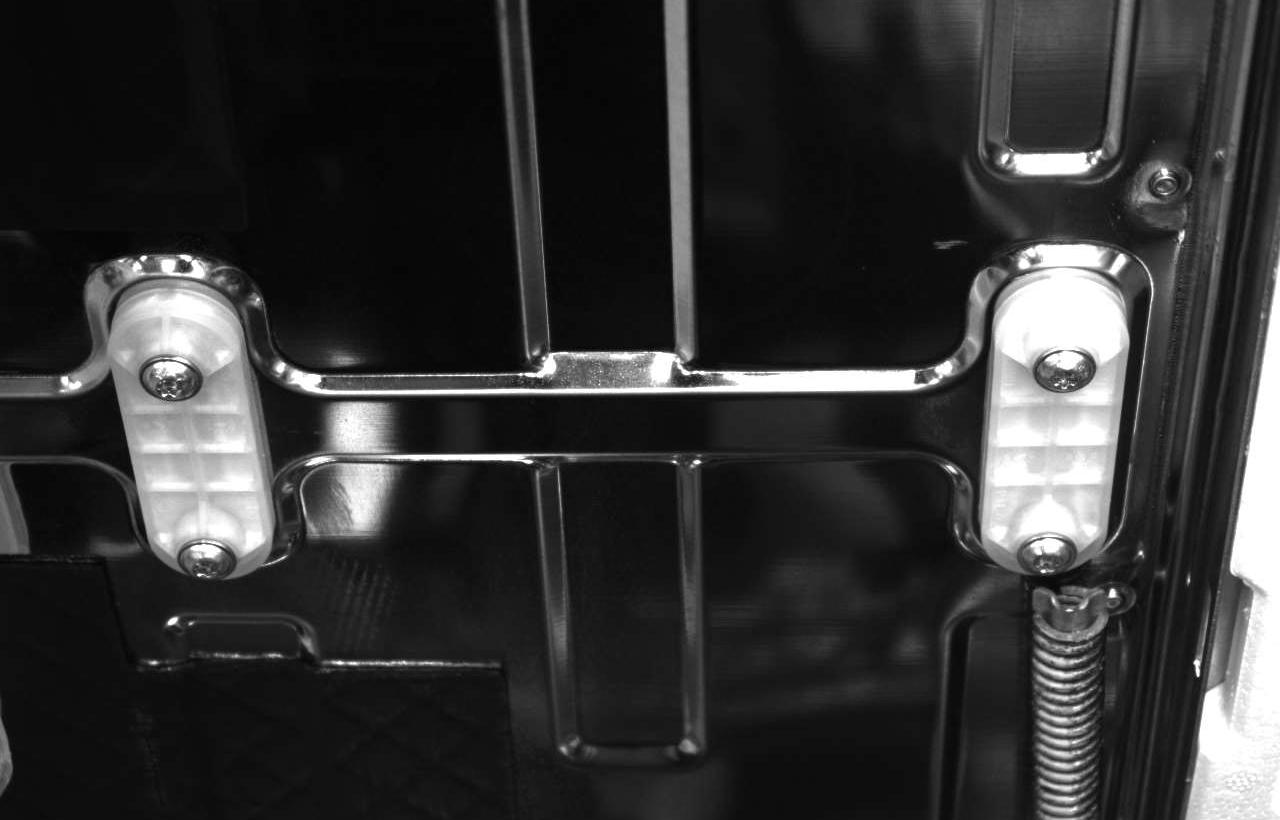vida-ok: (136, 348, 207, 415), (1033, 335, 1100, 402), (173, 529, 239, 588), (1020, 522, 1086, 581)
